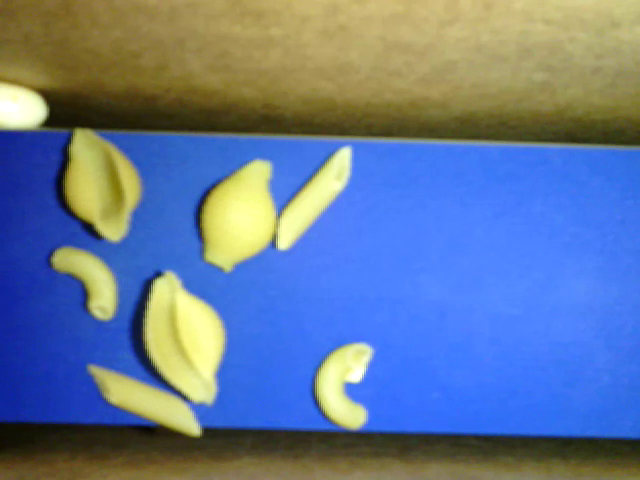elbow: (316, 342, 374, 431), (51, 245, 118, 320)
penne: (86, 363, 202, 438), (275, 145, 351, 253)
shell: (142, 270, 227, 406), (62, 126, 143, 242), (198, 157, 277, 272)
